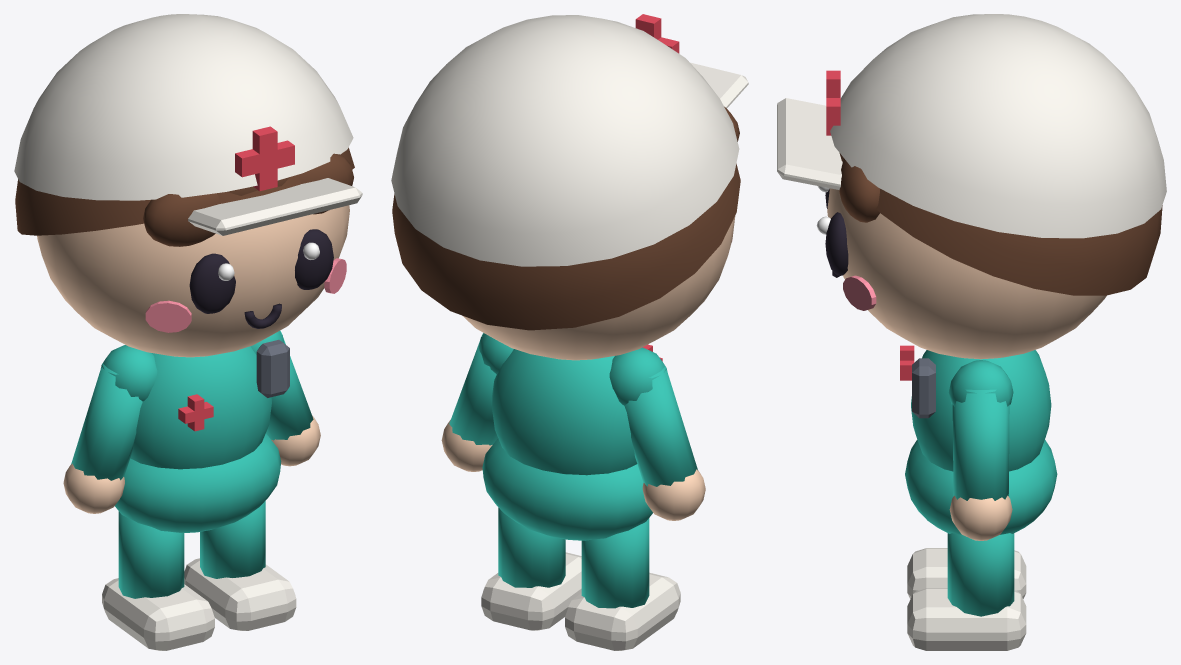
The model's file is char_medic.glb.
The picture shows the model from 3 angles, left to right: view 1: azimuth 30°, elevation 25°; view 2: azimuth 150°, elevation 25°; view 3: azimuth 270°, elevation 25°; orthographic projection. The views are drawn at different scales.
Visible parts, largest first — view 1: head, char_medic; view 2: head, char_medic; view 3: head, char_medic.
Part boxes in pixels (x1,y1,x2,y2): head: [14, 14, 362, 357]; char_medic: [63, 331, 320, 650]; head: [391, 14, 748, 360]; char_medic: [441, 333, 705, 650]; head: [777, 14, 1166, 359]; char_medic: [900, 345, 1057, 650].
Size of the model in its own units: 0.7344 by 1.37 by 0.8183.
